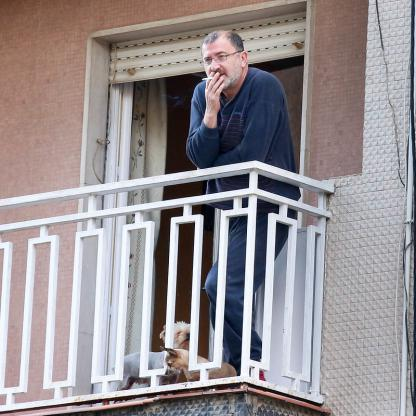smoking: (202, 77, 217, 81)
